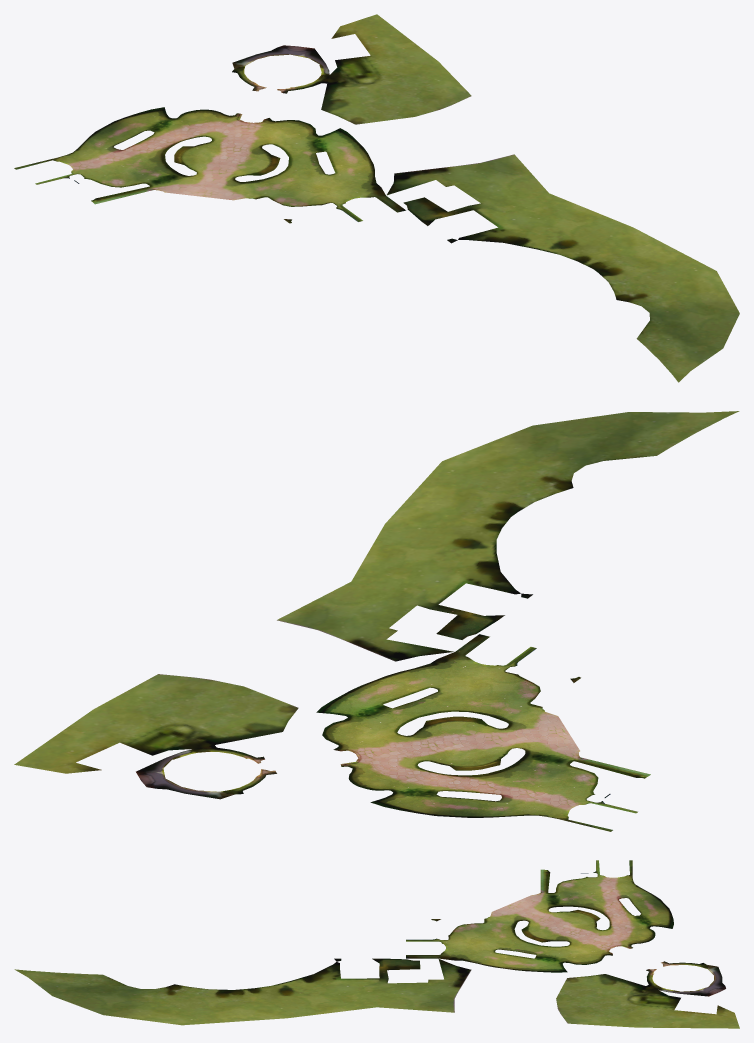
Rendered from pref_sm_garden_terrain_02_lv1.fbx.
The picture shows the model from 3 angles, top to bottom: view 1: azimuth 30°, elevation 25°; view 2: azimuth 150°, elevation 25°; view 3: azimuth 270°, elevation 25°; orthographic projection. The views are drawn at different scales.
Visible parts, largest first — view 1: pref_sm_garden_terrain_02_lv1; view 2: pref_sm_garden_terrain_02_lv1; view 3: pref_sm_garden_terrain_02_lv1.
Part boxes in pixels (left/top/right/bottom): pref_sm_garden_terrain_02_lv1: left=14, top=14, right=739, bottom=382; pref_sm_garden_terrain_02_lv1: left=14, top=411, right=739, bottom=831; pref_sm_garden_terrain_02_lv1: left=14, top=860, right=739, bottom=1028.
Bounding box in the file's own units: 69.58 × 0.000499 × 127.
1 material, 1 textured.
